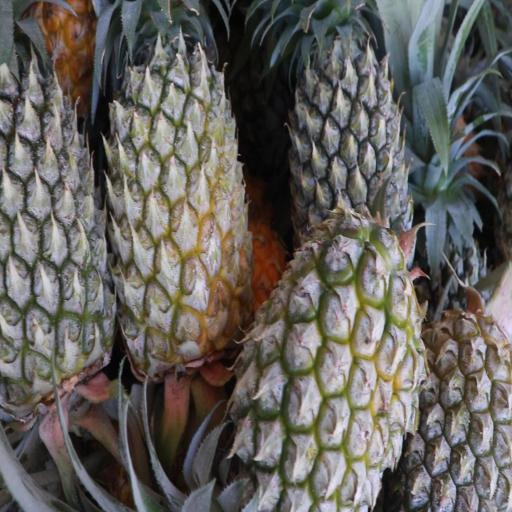------------------------------: (237, 230, 416, 504), (110, 10, 244, 364)
